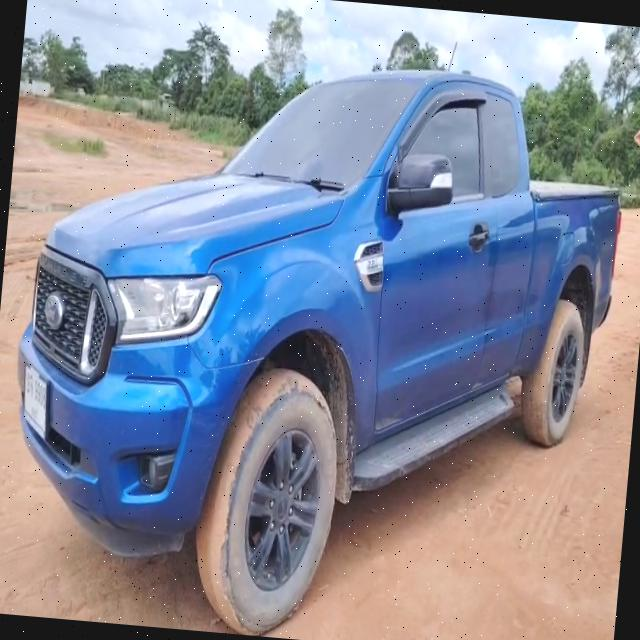Digit: (31, 378, 48, 412)
Licenseplate: (22, 360, 51, 443)
Provincename: (26, 404, 38, 424)
Thaichar: (22, 368, 35, 399)
